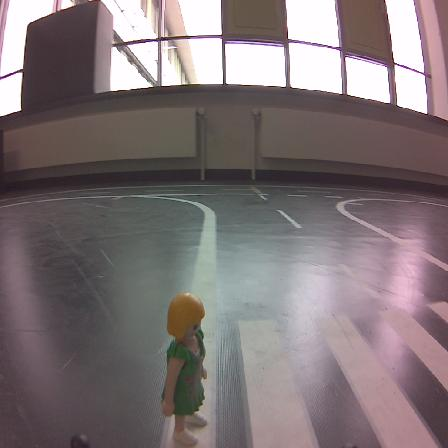PERSON: (162, 293, 206, 445)
